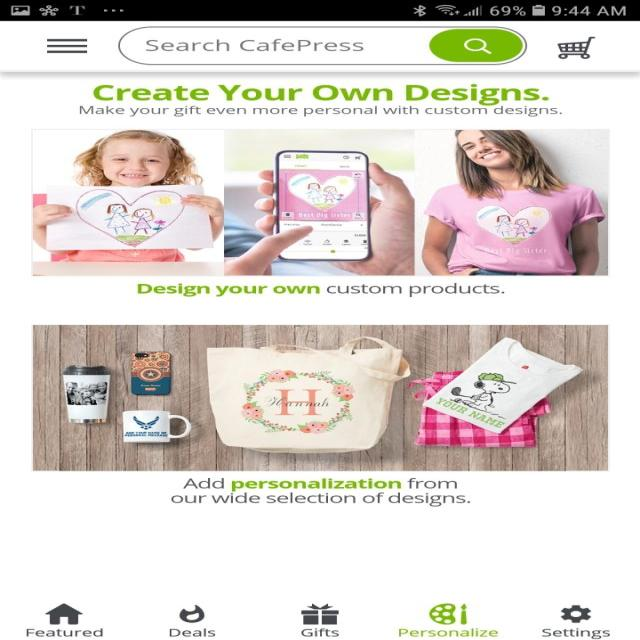EditText: (118, 26, 526, 66)
Icon: (428, 29, 522, 61), (44, 603, 84, 625), (428, 602, 467, 624), (300, 602, 338, 624), (556, 37, 594, 59), (560, 604, 591, 623), (47, 39, 88, 53), (178, 604, 204, 623)
Image: (31, 128, 609, 276), (32, 325, 607, 470)
Text: (94, 84, 548, 105), (170, 477, 470, 506), (79, 106, 562, 118), (137, 282, 504, 297), (144, 38, 363, 52), (398, 628, 498, 636), (540, 628, 609, 638), (26, 628, 104, 636), (168, 628, 215, 636), (300, 628, 340, 636)
